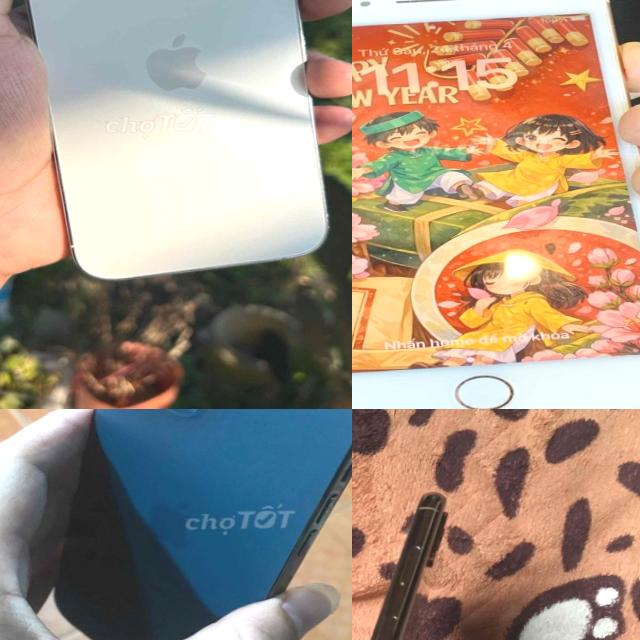gen_12_13: (39, 409, 352, 640)
gen_14: (0, 0, 336, 285)
gen_7_8: (352, 0, 640, 409)
gen_x_xs: (368, 492, 446, 640)
scratch: (352, 0, 490, 9)
